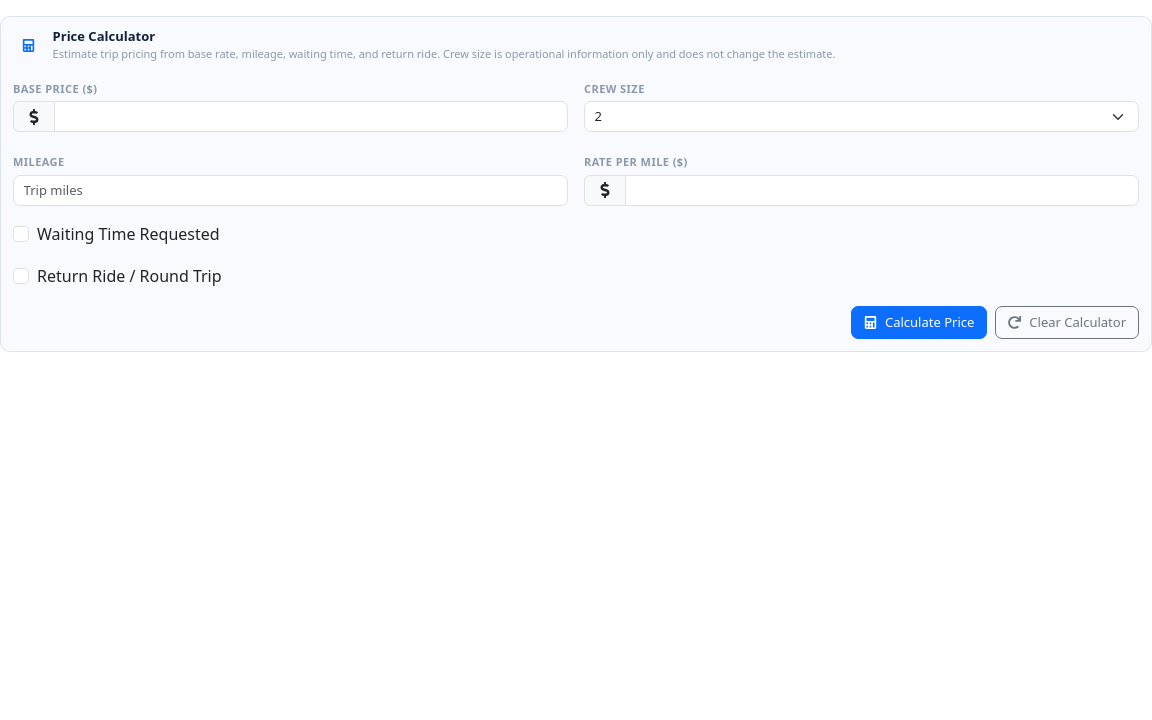
PriceCalculator (component) › does not add $25 when crew size increases from 2 to 3
This screenshot has width=1152, height=720.
Type "100" into the number field labelled "Base Price ($)".
click(311, 117); type("100")  # box [54,101,568,132]
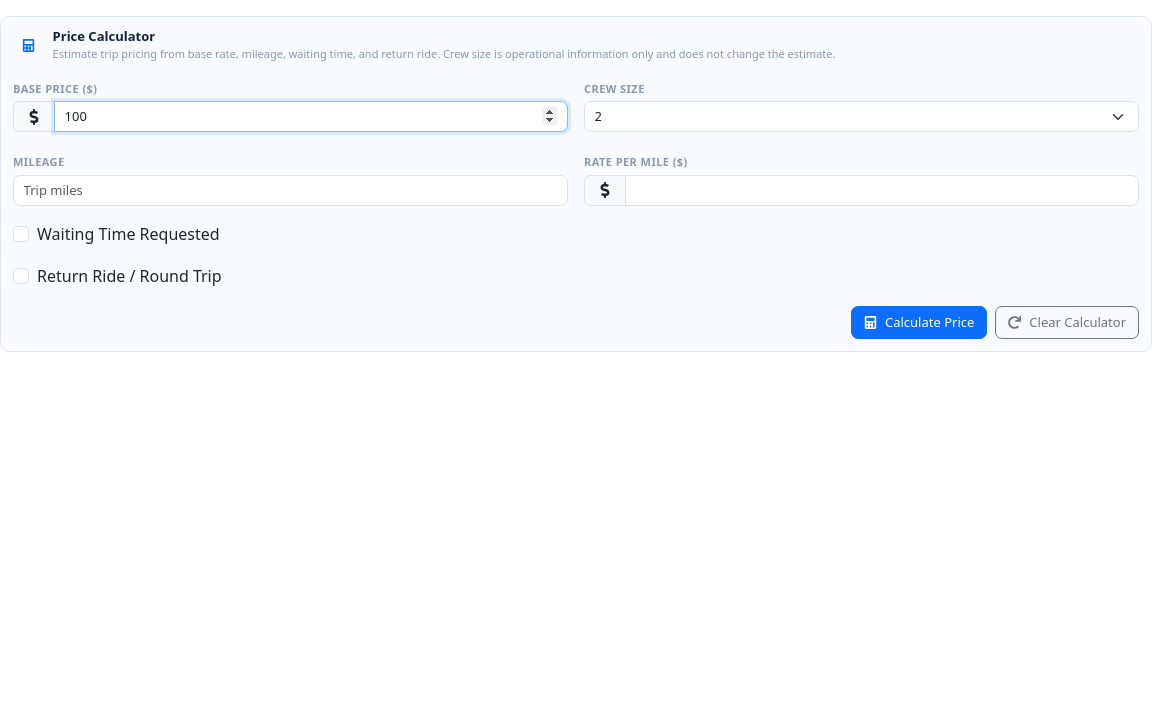
Type "10" into the number field labelled "Mileage".
click(290, 190); type("10")  # box [13,175,568,206]
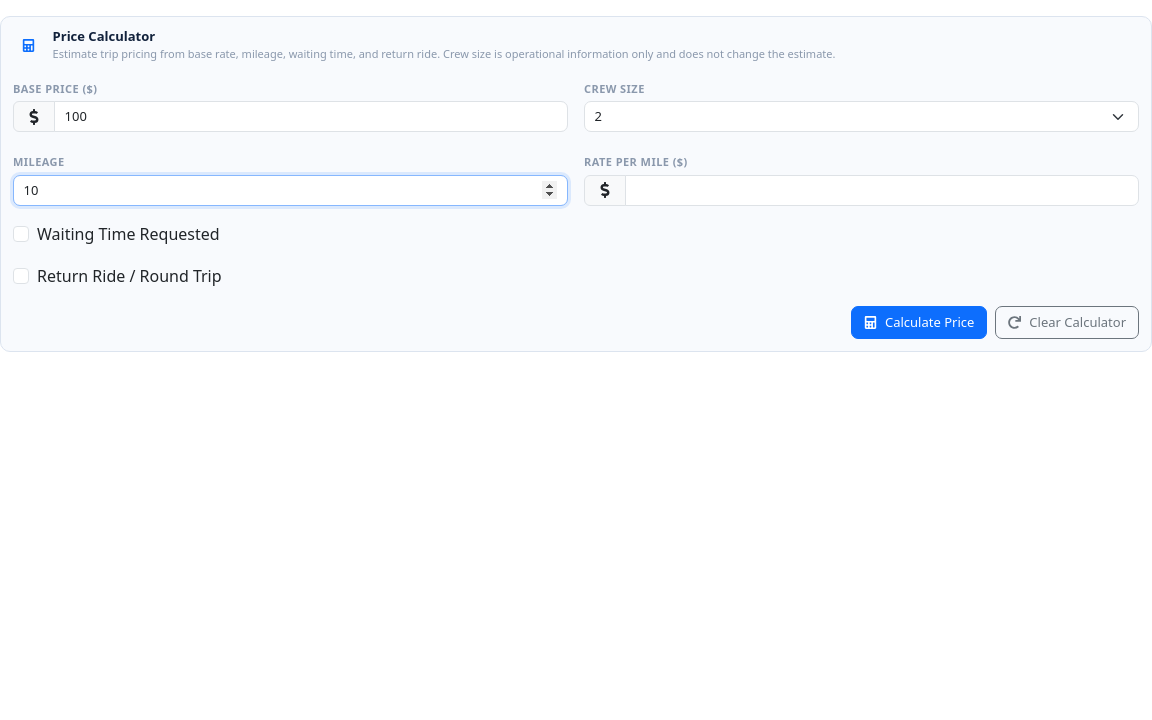
Type "2" into the number field labelled "Rate per Mile ($)".
click(882, 190); type("2")  # box [625,175,1139,206]
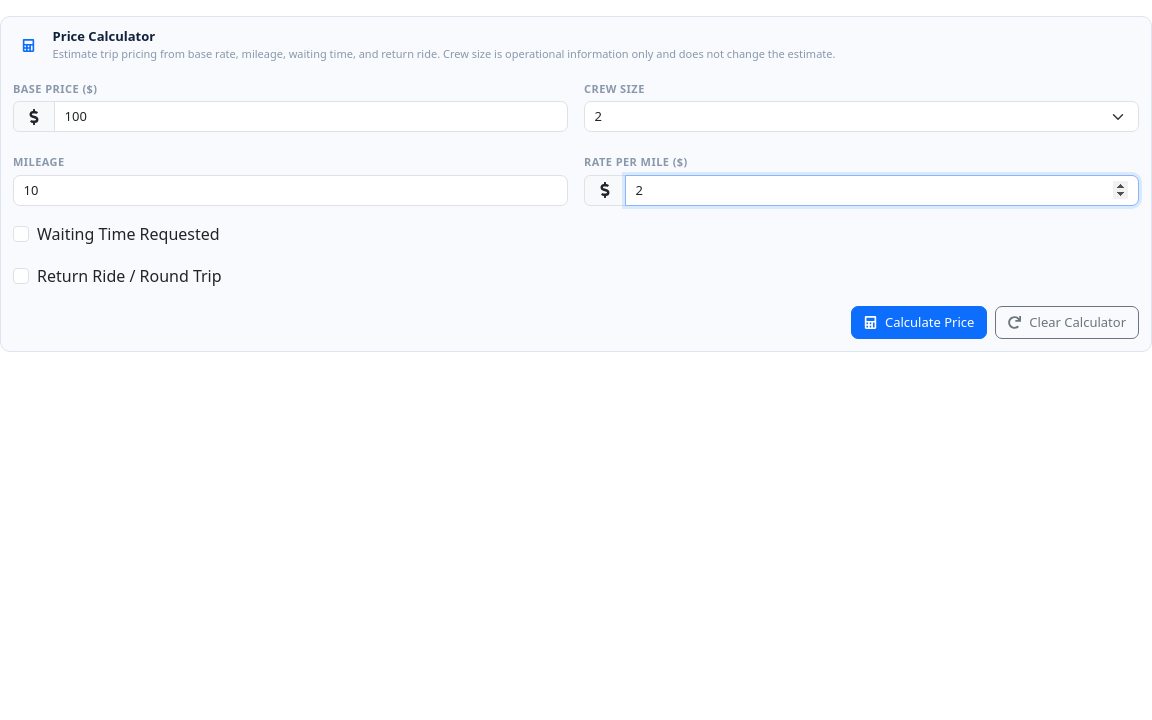
Select "3" in the dropdown labelled "Crew Size" at (862, 117), box [584,101,1139,132]
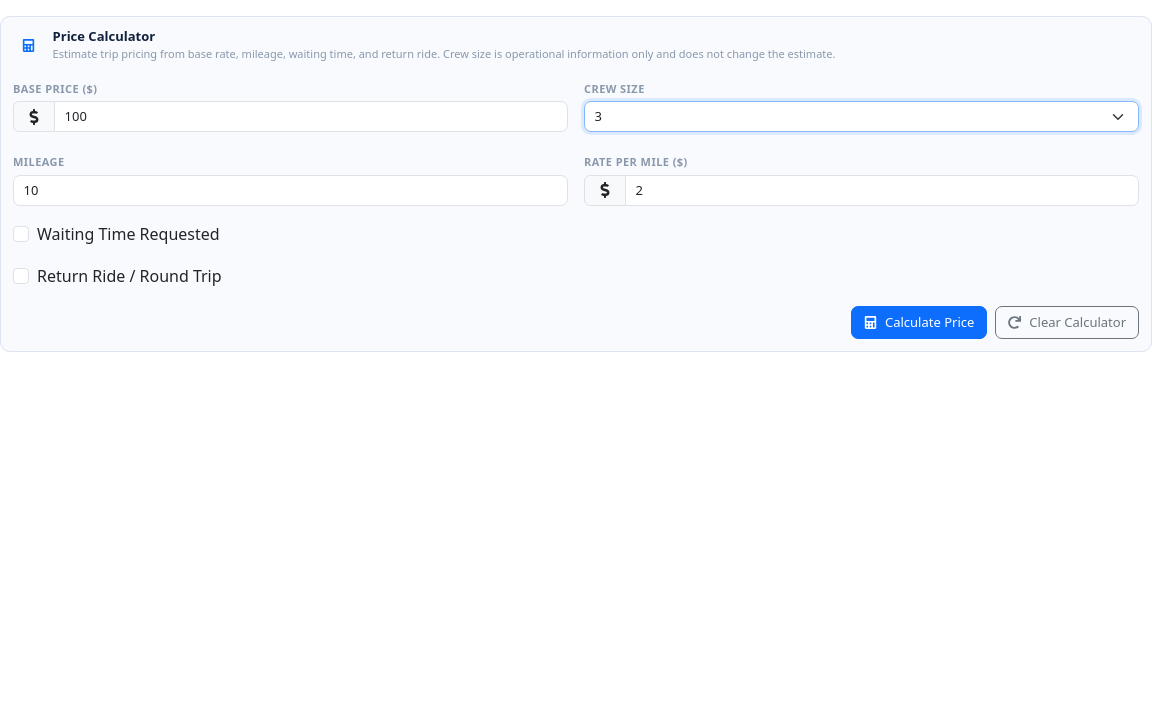
Click the button "Calculate Price".
click(919, 323)  # box [851,306,987,339]
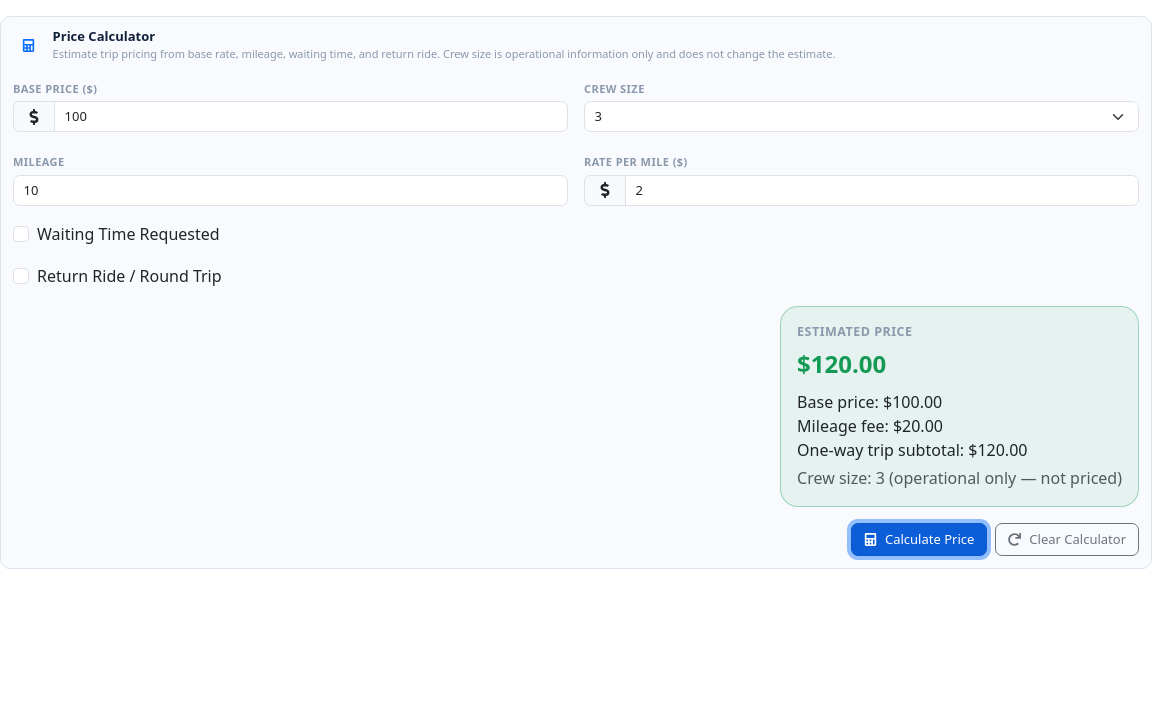
Expected: the text "$120.00" is shown, [797,347,886,380]
